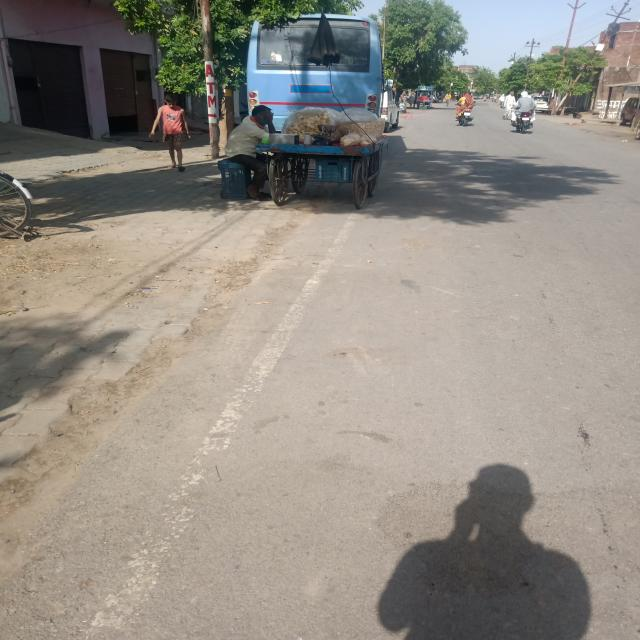Bus: (247, 15, 388, 132)
Car: (247, 15, 387, 128)
Two Wheeler: (247, 15, 400, 209), (515, 111, 532, 134), (457, 110, 472, 125)
